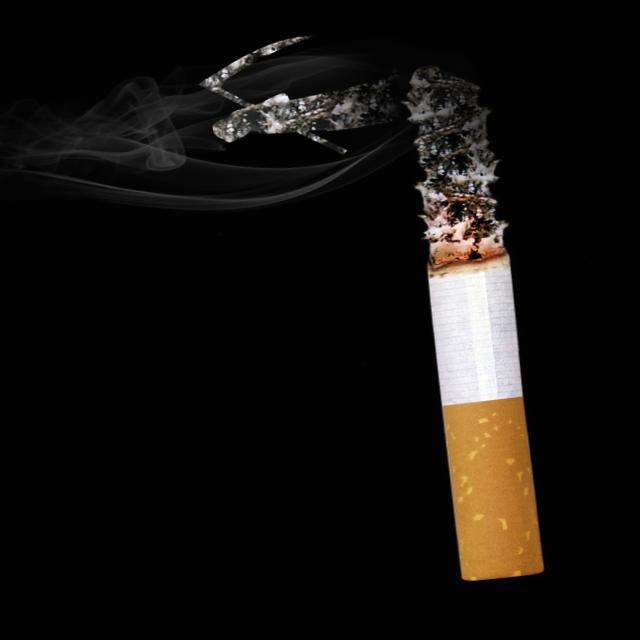cigarette: (407, 184, 562, 586)
